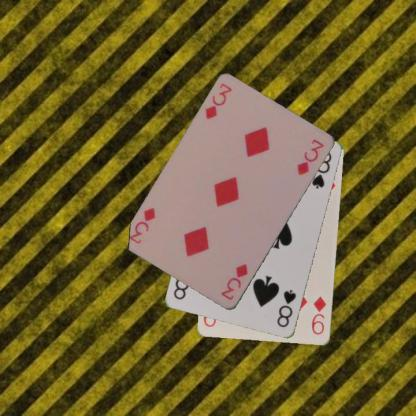3d: (202, 81, 234, 121), (219, 261, 250, 302)
8s: (274, 287, 298, 329)
9d: (309, 294, 328, 336)
